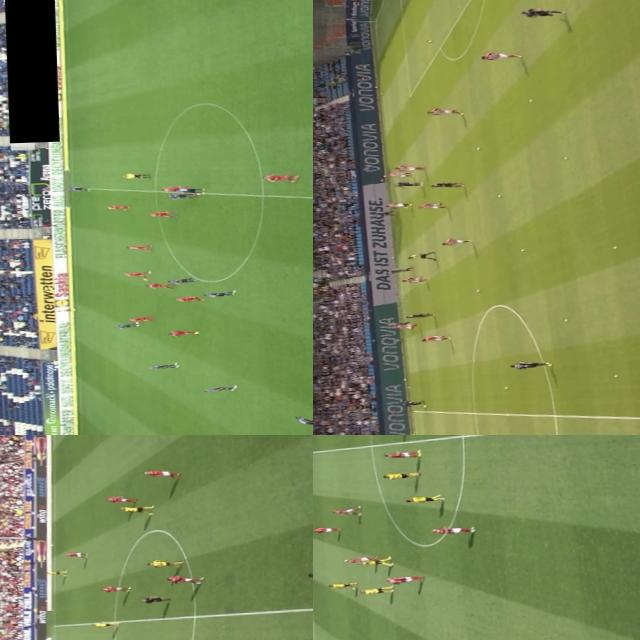ball: (472, 286, 481, 292), (526, 96, 534, 102), (612, 242, 620, 248), (612, 372, 620, 378), (425, 37, 434, 42), (494, 192, 504, 196), (560, 154, 570, 158), (474, 144, 482, 148), (562, 316, 570, 320), (196, 190, 202, 195), (519, 247, 527, 250), (504, 384, 509, 388), (422, 404, 428, 406)
player: (429, 524, 474, 536), (519, 5, 565, 15), (404, 492, 445, 503), (507, 358, 552, 368), (480, 49, 522, 59), (261, 172, 301, 182), (168, 573, 204, 584), (357, 584, 392, 595), (383, 574, 425, 583), (384, 448, 418, 459), (421, 332, 454, 343), (138, 469, 178, 478), (202, 383, 238, 392), (124, 269, 152, 280), (436, 236, 474, 244), (424, 106, 462, 114), (148, 208, 178, 218), (147, 360, 180, 369), (380, 471, 422, 478), (201, 288, 237, 296), (386, 264, 414, 274), (432, 180, 466, 188), (119, 504, 153, 512), (101, 494, 135, 502), (358, 556, 392, 564), (322, 580, 356, 588), (167, 328, 200, 336), (162, 183, 190, 192), (146, 559, 182, 566), (331, 507, 362, 515), (60, 550, 90, 558), (385, 200, 411, 209), (175, 294, 204, 302), (124, 243, 153, 251), (172, 186, 205, 193), (112, 320, 140, 328), (168, 192, 196, 200), (293, 412, 313, 423), (394, 180, 424, 187), (105, 202, 131, 210), (400, 275, 426, 283), (388, 169, 414, 177), (394, 163, 423, 170), (420, 200, 445, 208), (127, 314, 155, 321), (145, 280, 173, 287), (396, 320, 420, 328), (90, 620, 122, 626), (342, 556, 374, 562), (388, 318, 411, 326), (398, 398, 424, 405), (40, 567, 66, 574), (166, 276, 196, 282), (404, 310, 434, 316), (313, 525, 338, 532), (68, 185, 90, 192), (103, 584, 127, 590)
